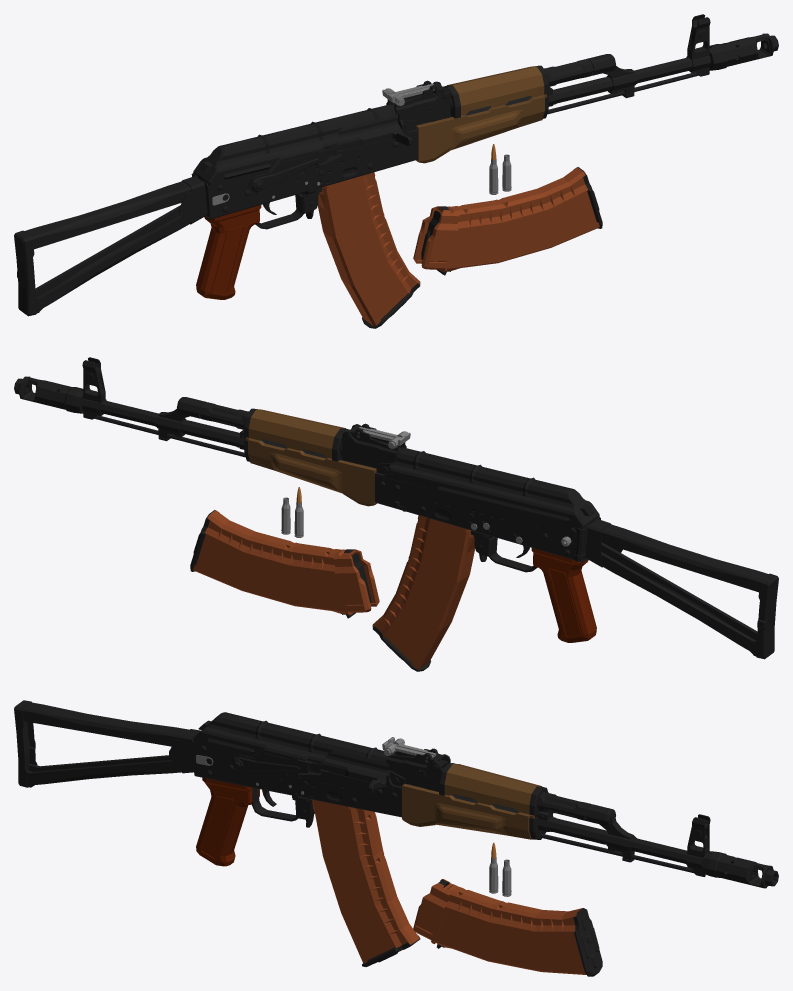
File: aks-74.fbx
3 views of the same model, one above another, from view 1: azimuth 30°, elevation 25°; view 2: azimuth 150°, elevation 25°; view 3: azimuth 330°, elevation 25° (orthographic).
Visible parts, largest first — view 1: ak74 30rnd empty bakelite mag, aks74 receiver, aks74 stock, ak74 30rnd bakelite mag, aks74 handguard, aks74 dust cover, aks74 barrel, aks74 grip, aks74 compensator, aks74 bolt, aks74 selector; view 2: ak74 30rnd empty bakelite mag, aks74 receiver, aks74 stock, ak74 30rnd bakelite mag, aks74 dust cover, aks74 handguard, aks74 barrel, aks74 grip, aks74 compensator; view 3: ak74 30rnd empty bakelite mag, aks74 receiver, ak74 30rnd bakelite mag, aks74 stock, aks74 handguard, aks74 barrel, aks74 dust cover, aks74 grip, aks74 compensator, aks74 bolt, aks74 selector.
Part boxes in pixels (x1=…): ak74 30rnd empty bakelite mag: x1=413, y1=167, x2=602, y2=275; aks74 receiver: x1=191, y1=59, x2=592, y2=229; aks74 stock: x1=14, y1=176, x2=207, y2=316; ak74 30rnd bakelite mag: x1=317, y1=172, x2=420, y2=328; aks74 handguard: x1=416, y1=66, x2=546, y2=163; aks74 dust cover: x1=193, y1=104, x2=395, y2=186; aks74 barrel: x1=416, y1=14, x2=711, y2=125; aks74 grip: x1=196, y1=205, x2=261, y2=299; aks74 compensator: x1=709, y1=33, x2=778, y2=70; aks74 bolt: x1=324, y1=66, x2=593, y2=150; aks74 selector: x1=248, y1=145, x2=342, y2=193; ak74 30rnd empty bakelite mag: x1=190, y1=510, x2=379, y2=618; aks74 receiver: x1=200, y1=402, x2=600, y2=572; aks74 stock: x1=576, y1=519, x2=778, y2=659; ak74 30rnd bakelite mag: x1=372, y1=515, x2=475, y2=671; aks74 dust cover: x1=390, y1=447, x2=599, y2=529; aks74 handguard: x1=246, y1=409, x2=376, y2=506; aks74 barrel: x1=81, y1=357, x2=376, y2=468; aks74 grip: x1=531, y1=548, x2=596, y2=642; aks74 compensator: x1=14, y1=376, x2=83, y2=413; ak74 30rnd empty bakelite mag: x1=413, y1=879, x2=602, y2=976; aks74 receiver: x1=192, y1=720, x2=591, y2=821; ak74 30rnd bakelite mag: x1=311, y1=799, x2=420, y2=966; aks74 stock: x1=14, y1=700, x2=200, y2=787; aks74 handguard: x1=402, y1=763, x2=541, y2=839; aks74 barrel: x1=407, y1=784, x2=710, y2=876; aks74 dust cover: x1=193, y1=712, x2=396, y2=763; aks74 grip: x1=196, y1=777, x2=259, y2=866; aks74 compensator: x1=701, y1=851, x2=778, y2=888; aks74 bolt: x1=309, y1=750, x2=586, y2=813; aks74 selector: x1=231, y1=751, x2=321, y2=776.
Size of the model in its own units: 918 by 265 by 64.3.
